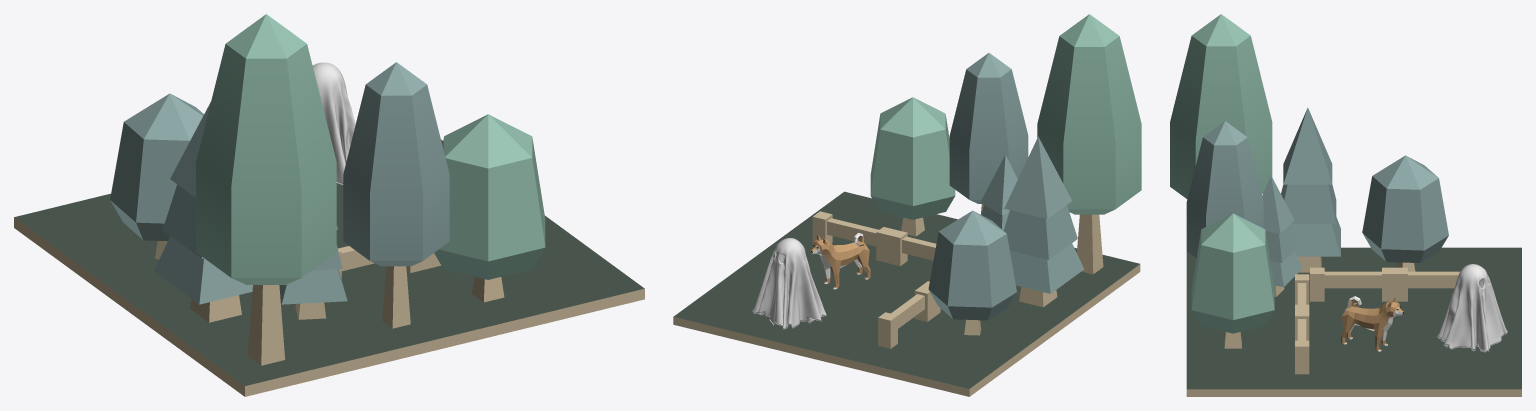
File: main_model.glb
3 views of the same model, side by side, from view 1: azimuth 30°, elevation 25°; view 2: azimuth 150°, elevation 25°; view 3: azimuth 270°, elevation 25° (orthographic). The views are drawn at different scales.
Visible parts, largest first — view 1: Plate_Grass_Dirt_01, Oak_Green_01, Oak_Dark_01, Large_Oak_Green_01, Large_Oak_Dark_01, Tree_02, Plane, Tree_02.001, Wood_Fence_01.002; view 2: Plate_Grass_Dirt_01, Oak_Green_01, Large_Oak_Green_01, Tree_02, Oak_Dark_01, Large_Oak_Dark_01, Plane, Wood_Fence_01.003, SIEFRING_ShibaInu_LP, Wood_Fence_01.001, Tree_02.001, Wood_Fence_01.002; view 3: Plate_Grass_Dirt_01, Oak_Green_01, Large_Oak_Green_01, Large_Oak_Dark_01, Oak_Dark_01, Tree_02, Plane, Tree_02.001, Wood_Fence_01, SIEFRING_ShibaInu_LP, Wood_Fence_01.001, Wood_Fence_01.003 (+1 smaller).
Boxes of the visible parts, <box> form: Plate_Grass_Dirt_01: <box>14,139,644,396</box>; Oak_Green_01: <box>196,14,336,365</box>; Oak_Dark_01: <box>343,62,449,328</box>; Large_Oak_Green_01: <box>434,114,545,302</box>; Large_Oak_Dark_01: <box>110,93,203,259</box>; Tree_02: <box>154,102,252,322</box>; Plane: <box>312,62,355,184</box>; Tree_02.001: <box>279,225,347,319</box>; Wood_Fence_01.002: <box>338,246,427,278</box>; Plate_Grass_Dirt_01: <box>673,191,1140,396</box>; Oak_Green_01: <box>1037,14,1141,274</box>; Large_Oak_Green_01: <box>870,97,955,236</box>; Tree_02: <box>1003,136,1083,307</box>; Oak_Dark_01: <box>949,53,1028,213</box>; Large_Oak_Dark_01: <box>928,210,1016,335</box>; Plane: <box>752,238,826,329</box>; Wood_Fence_01.003: <box>812,211,894,262</box>; SIEFRING_ShibaInu_LP: <box>811,233,870,289</box>; Wood_Fence_01.001: <box>878,286,934,348</box>; Tree_02.001: <box>980,155,1017,230</box>; Wood_Fence_01.002: <box>887,229,936,266</box>; Plate_Grass_Dirt_01: <box>1186,247,1521,396</box>; Oak_Green_01: <box>1170,14,1272,198</box>; Large_Oak_Green_01: <box>1191,213,1274,348</box>; Large_Oak_Dark_01: <box>1362,155,1448,271</box>; Oak_Dark_01: <box>1186,121,1263,258</box>; Tree_02: <box>1281,107,1340,272</box>; Plane: <box>1437,264,1507,352</box>; Tree_02.001: <box>1262,175,1302,296</box>; Wood_Fence_01: <box>1310,267,1396,301</box>; SIEFRING_ShibaInu_LP: <box>1341,296,1403,351</box>; Wood_Fence_01.001: <box>1393,267,1459,301</box>; Wood_Fence_01.003: <box>1295,311,1309,374</box>.
Size of the model in its own units: 6.09 by 5.06 by 6.27.
Materials: 16 (1 with a texture image).
